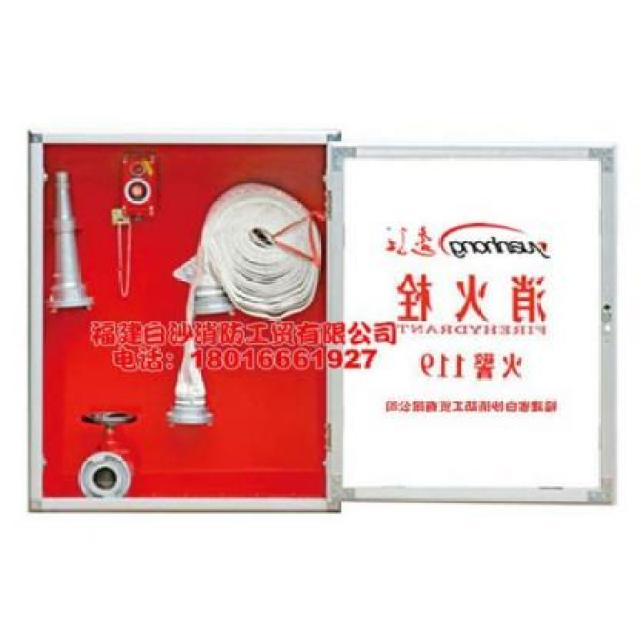firehydrant: (23, 128, 624, 519)
